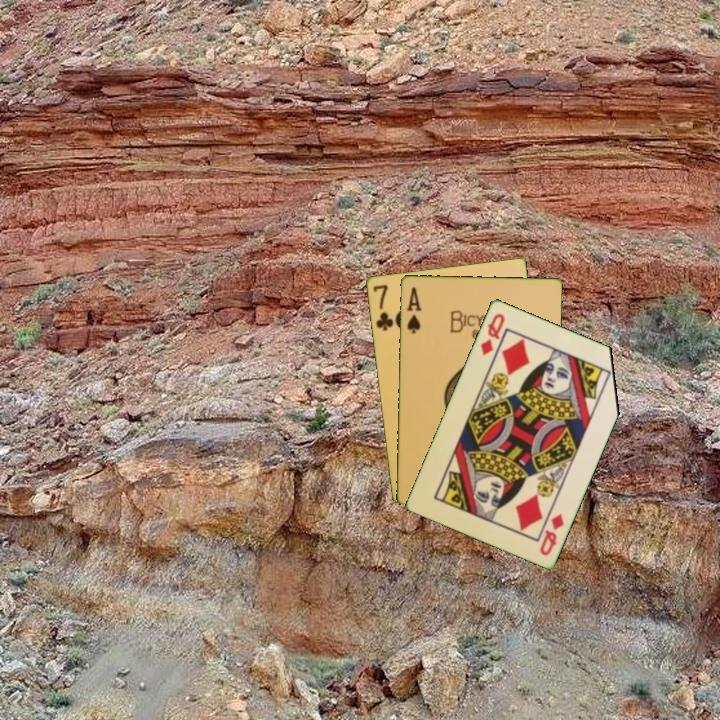7c: (369, 281, 396, 334)
As: (403, 283, 424, 336)
Qd: (476, 309, 508, 358), (536, 510, 567, 558)
